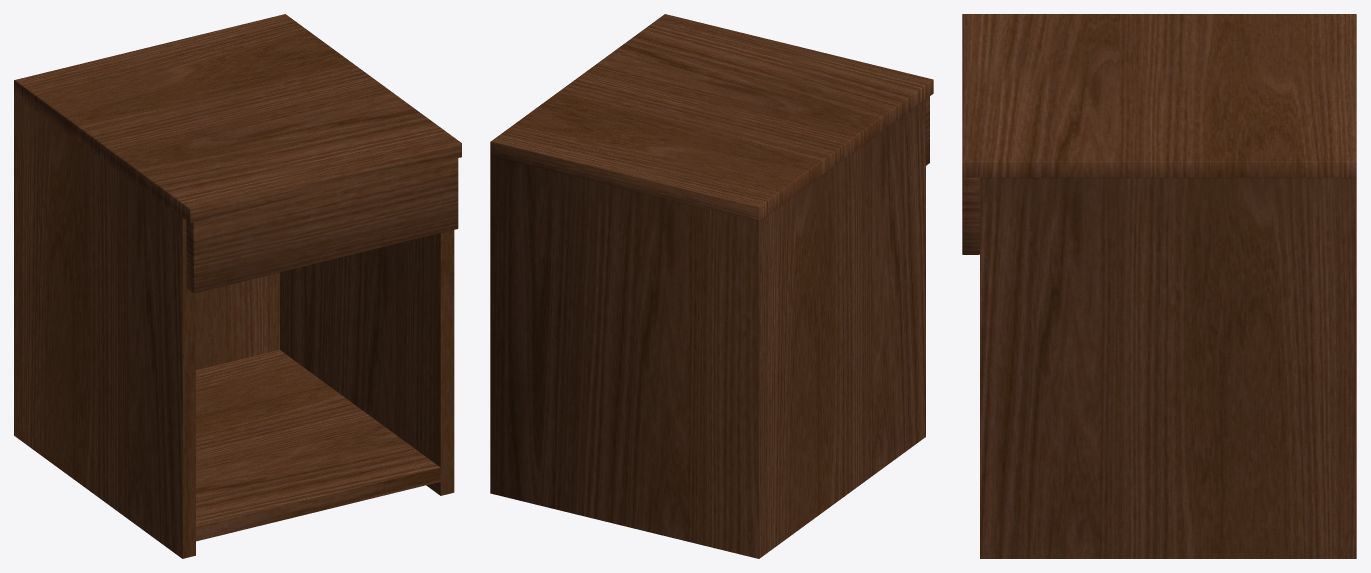
Rendered from __SideTable.glb.
3 views of the same model, side by side, from view 1: azimuth 30°, elevation 25°; view 2: azimuth 150°, elevation 25°; view 3: azimuth 270°, elevation 25° (orthographic). The views are drawn at different scales.
Visible parts, largest first — view 1: table02, table02_drawer; view 2: table02; view 3: table02, table02_drawer.
Boxes of the visible parts, x1,y1,x2,y2 form: table02: [14, 14, 461, 558]; table02_drawer: [186, 158, 458, 293]; table02: [490, 14, 933, 558]; table02: [962, 14, 1356, 558]; table02_drawer: [962, 177, 979, 254].
Bounding box in the file's own units: 0.4 × 0.5 × 0.45.
1 material, 1 textured.
